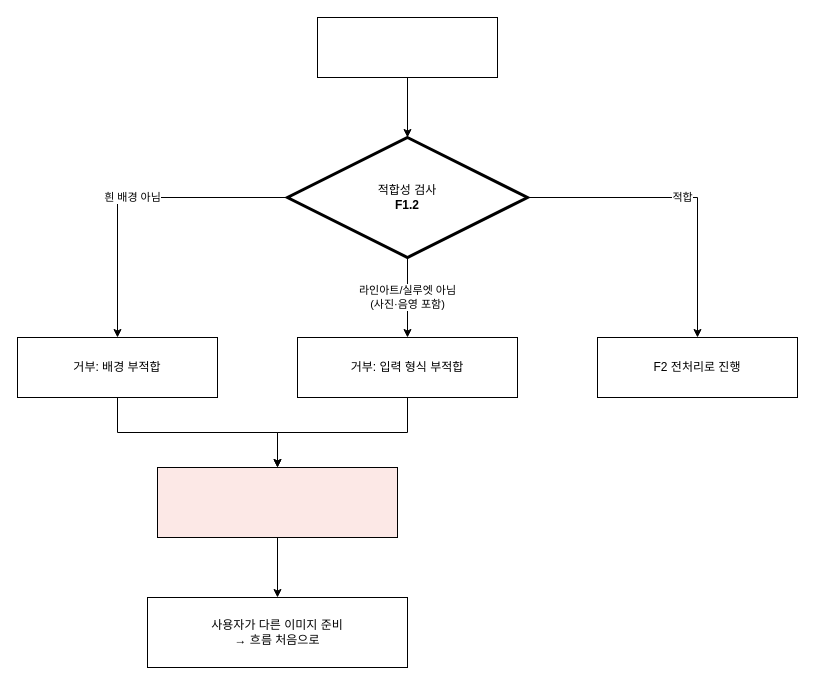
This 815x685 diagram has some shape labels left out. Here are the shapes that lost their labels. From the top down, the centre of each, then its label:
At point 407,47: "업로드 수신 F1.1".
At point 277,502: "사유를 담아 사용자에게 반환 F6.1 UI 표시".
